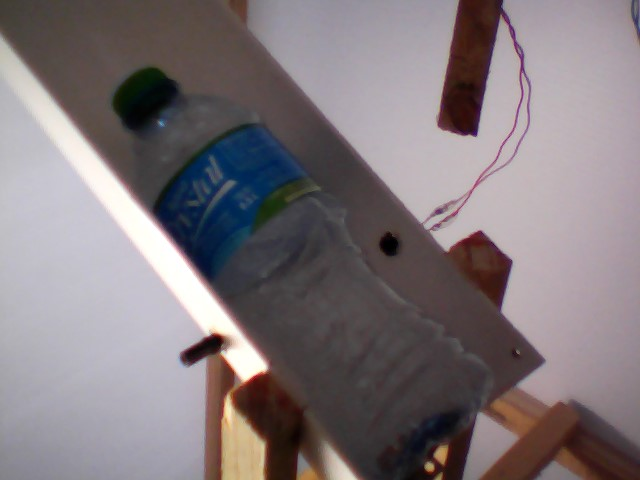plastico: (105, 53, 504, 477)
